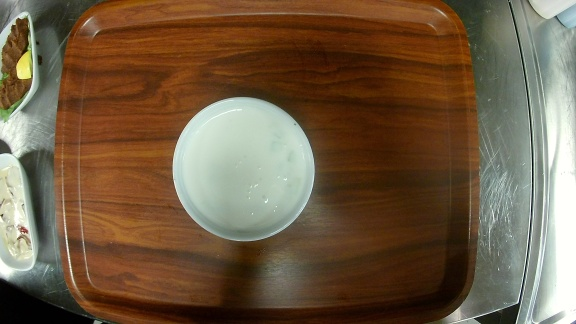cacik: (172, 96, 316, 241)
